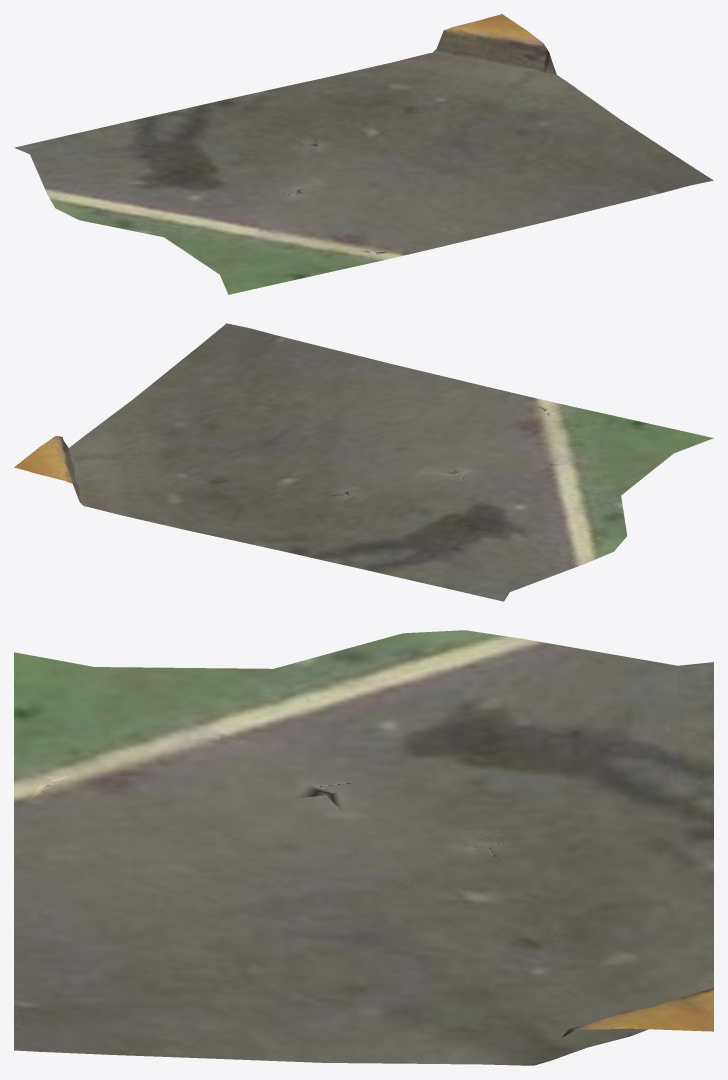
3 renders of one model, top to bottom at view 1: azimuth 30°, elevation 25°; view 2: azimuth 150°, elevation 25°; view 3: azimuth 270°, elevation 25°, orthographic. The views are drawn at different scales.
Size of the model in its own units: 3.73 by 0.1611 by 2.62.
1 material, 1 textured.
